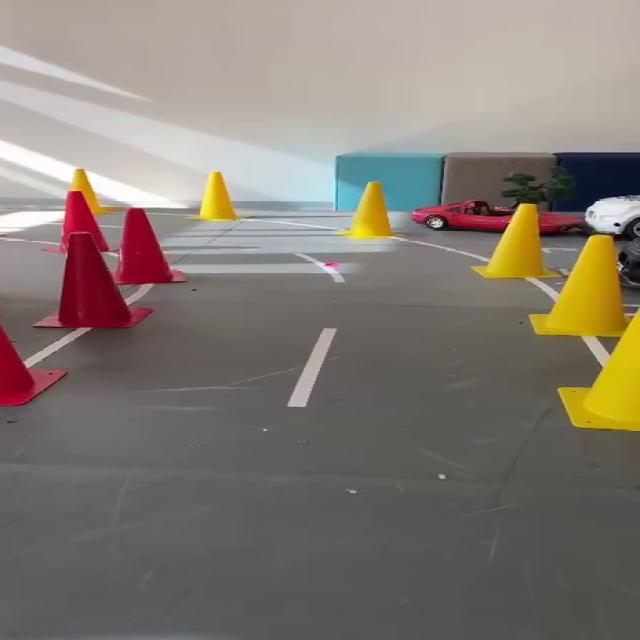Cone-red: (34, 190, 183, 328), (0, 326, 65, 405), (578, 392, 611, 414)
Cones-yellow: (530, 235, 639, 430), (530, 235, 629, 337), (560, 310, 639, 430), (472, 204, 559, 280), (472, 204, 557, 278), (341, 182, 390, 238), (70, 168, 116, 214), (194, 172, 236, 221)
